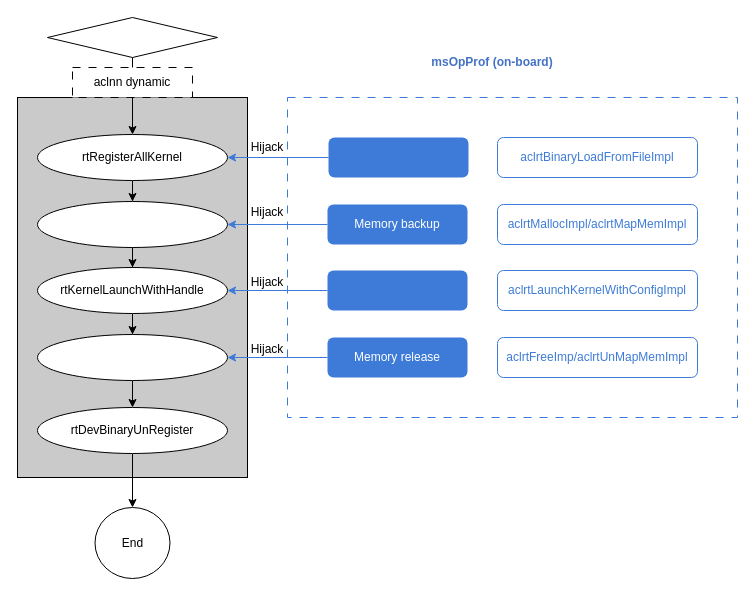
This 755x596 diagram has some shape labels left out. Each missing label, with the centre of its shape:
".o information recording" goes at point 398,157.
"Profile data collection" goes at point 397,290.
"rtFree/rtUnmapMem" goes at point 132,357.
"rtMalloc/rtMapMem" goes at point 132,224.
"Start" goes at point 132,37.
